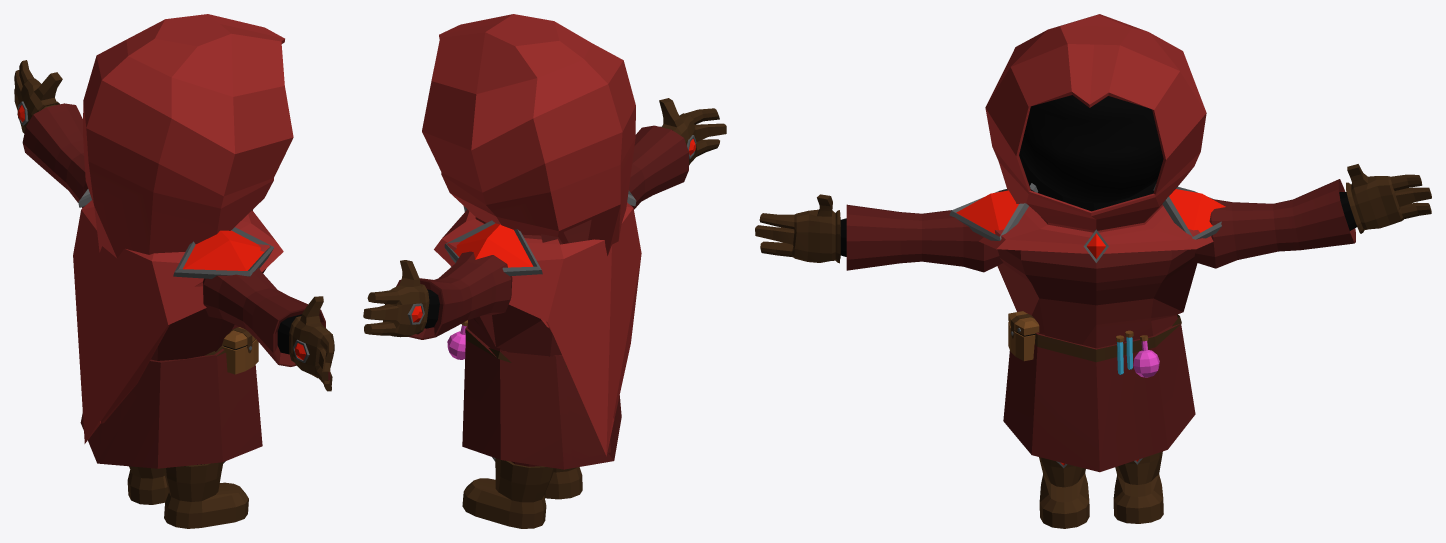
File: Enemy_Rig_Colored.fbx
3 renders of one model, left to right at view 1: azimuth 30°, elevation 25°; view 2: azimuth 150°, elevation 25°; view 3: azimuth 270°, elevation 25°, orthographic.
Visible parts, largest first — view 1: Sphere_1; view 2: Sphere_1; view 3: Sphere_1.
Part boxes in pixels (<box>): Sphere_1: <box>14,14,334,528</box>; Sphere_1: <box>363,14,726,528</box>; Sphere_1: <box>755,14,1431,528</box>.
Bounding box in the file's own units: 160 × 379 × 485.
